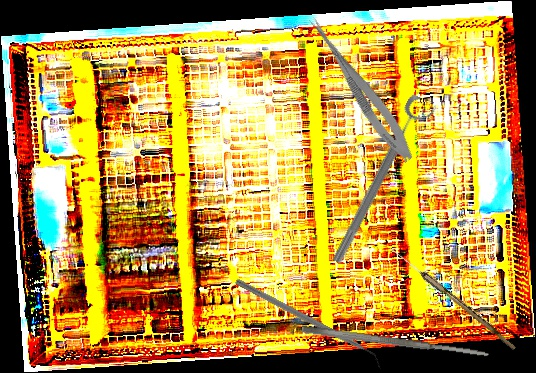Chopper: (230, 278, 387, 371)
Fixation Ring: (327, 93, 439, 271)
Micro Scissor: (299, 12, 421, 167)
Spatula Surgical: (301, 323, 490, 361)
Surgical Spoon: (387, 245, 519, 351)
